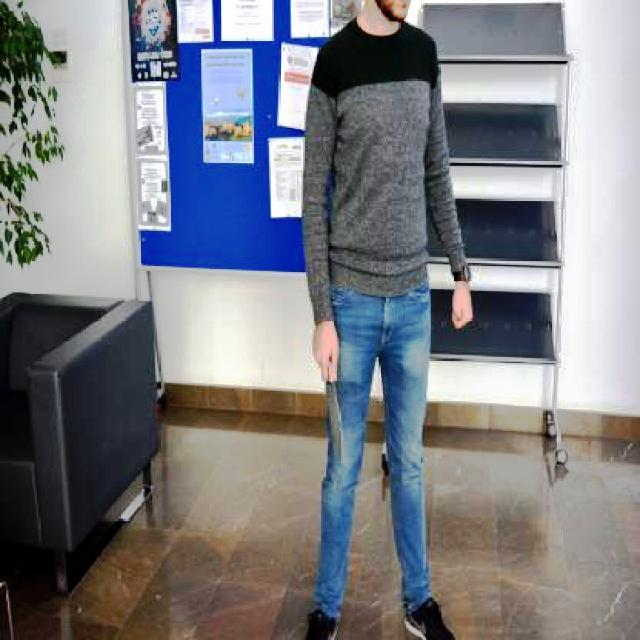Knife: (322, 380, 358, 472)
